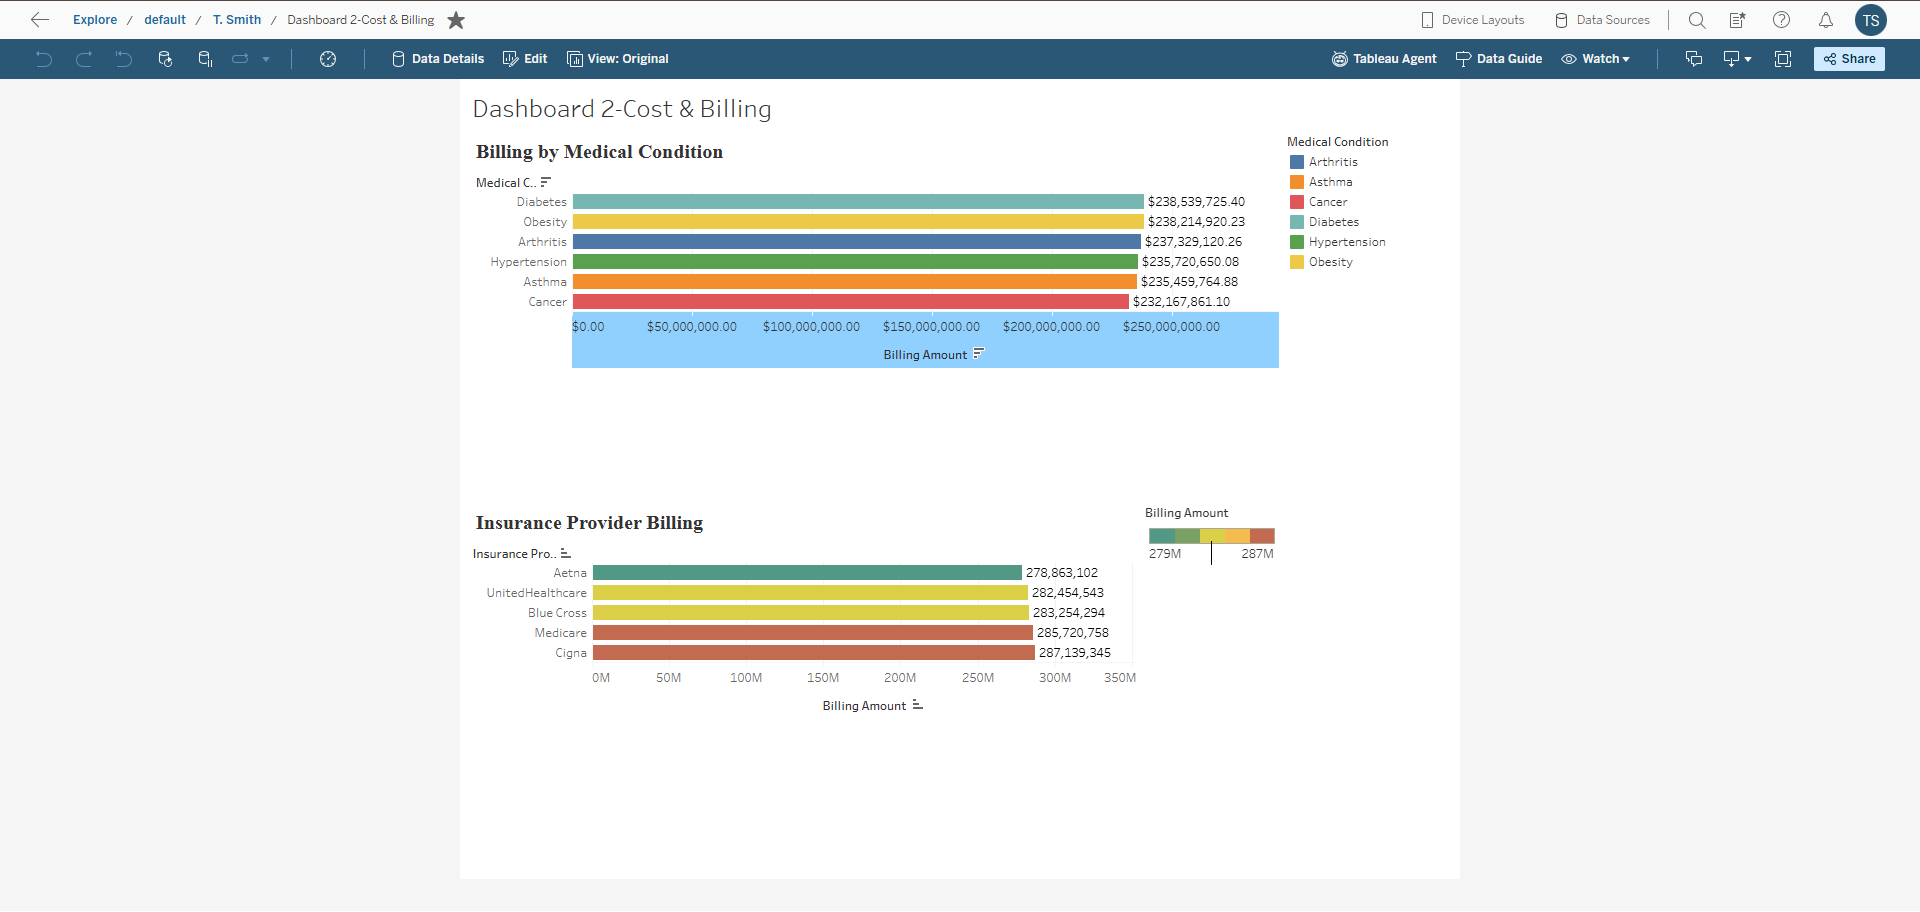

This screenshot's page, from the dashboard's own definition file:
{"tool":"tableau","page":{"name":"Dashboard 2-Cost & Billing","canvas":[1000,800],"ordinal":1},"visuals":[{"type":"title","box":[8,8,984,42]},{"type":"worksheet","title":"Sheet 1","mark":"Bar","rows":["Medical_Condition"],"cols":["Billing_Amount"],"box":[8,50,815,371]},{"type":"legend","title":"Sheet 1","param":"[sqlproxy.0tvkooc0zpwh0q198ijcr0giots4].[none:Medical_Condition:nk]","box":[823,50,169,221]},{"type":"worksheet","title":"Sheet 5","mark":"Automatic","rows":["Insurance_Provider"],"cols":["Billing_Amount"],"box":[8,421,673.3,371]},{"type":"legend","title":"Sheet 5","param":"[sqlproxy.0tvkooc0zpwh0q198ijcr0giots4].[sum:Billing_Amount:qk]","box":[681.3,421,141.7,371]}]}

Visuals, with their boxes on the page's 1000x800 design canvas (x1, y1, x2, y2). These are canvas units, not pixel positions in the 1920x912 screenshot, which may show the page scaled, cropped or inside an application window:
title: 8, 8, 992, 50
"Sheet 1" worksheet (Bar marks): 8, 50, 823, 421
"Sheet 1" legend: 823, 50, 992, 271
"Sheet 5" worksheet: 8, 421, 681, 792
"Sheet 5" legend: 681, 421, 823, 792
